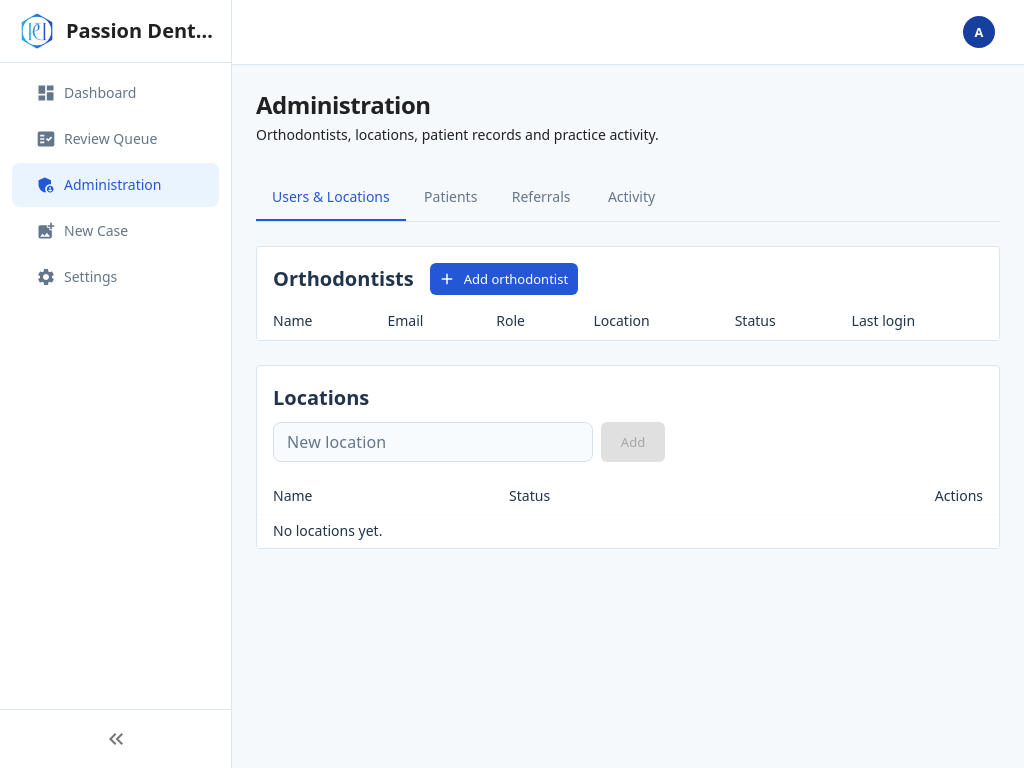
Test: Administration tabs › shows the patient directory on the patients tab
Click the tab "Patients": (451, 197) [406,173,496,221]
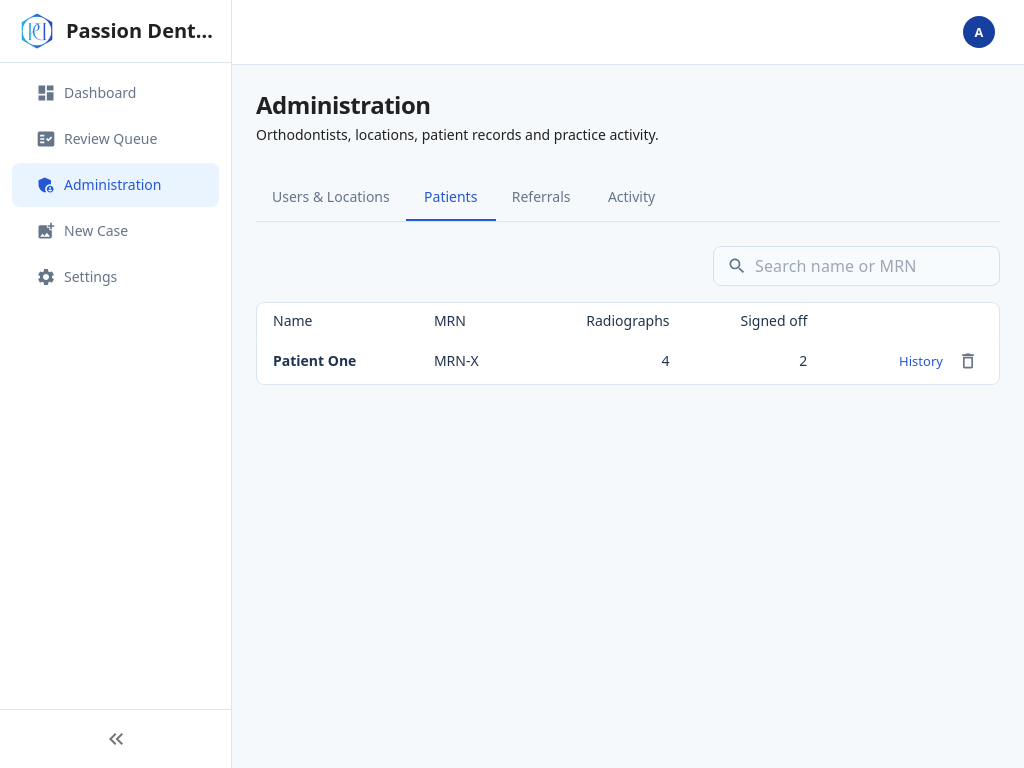
Check: the text "Patient One" is shown, box [257,340,418,383]
